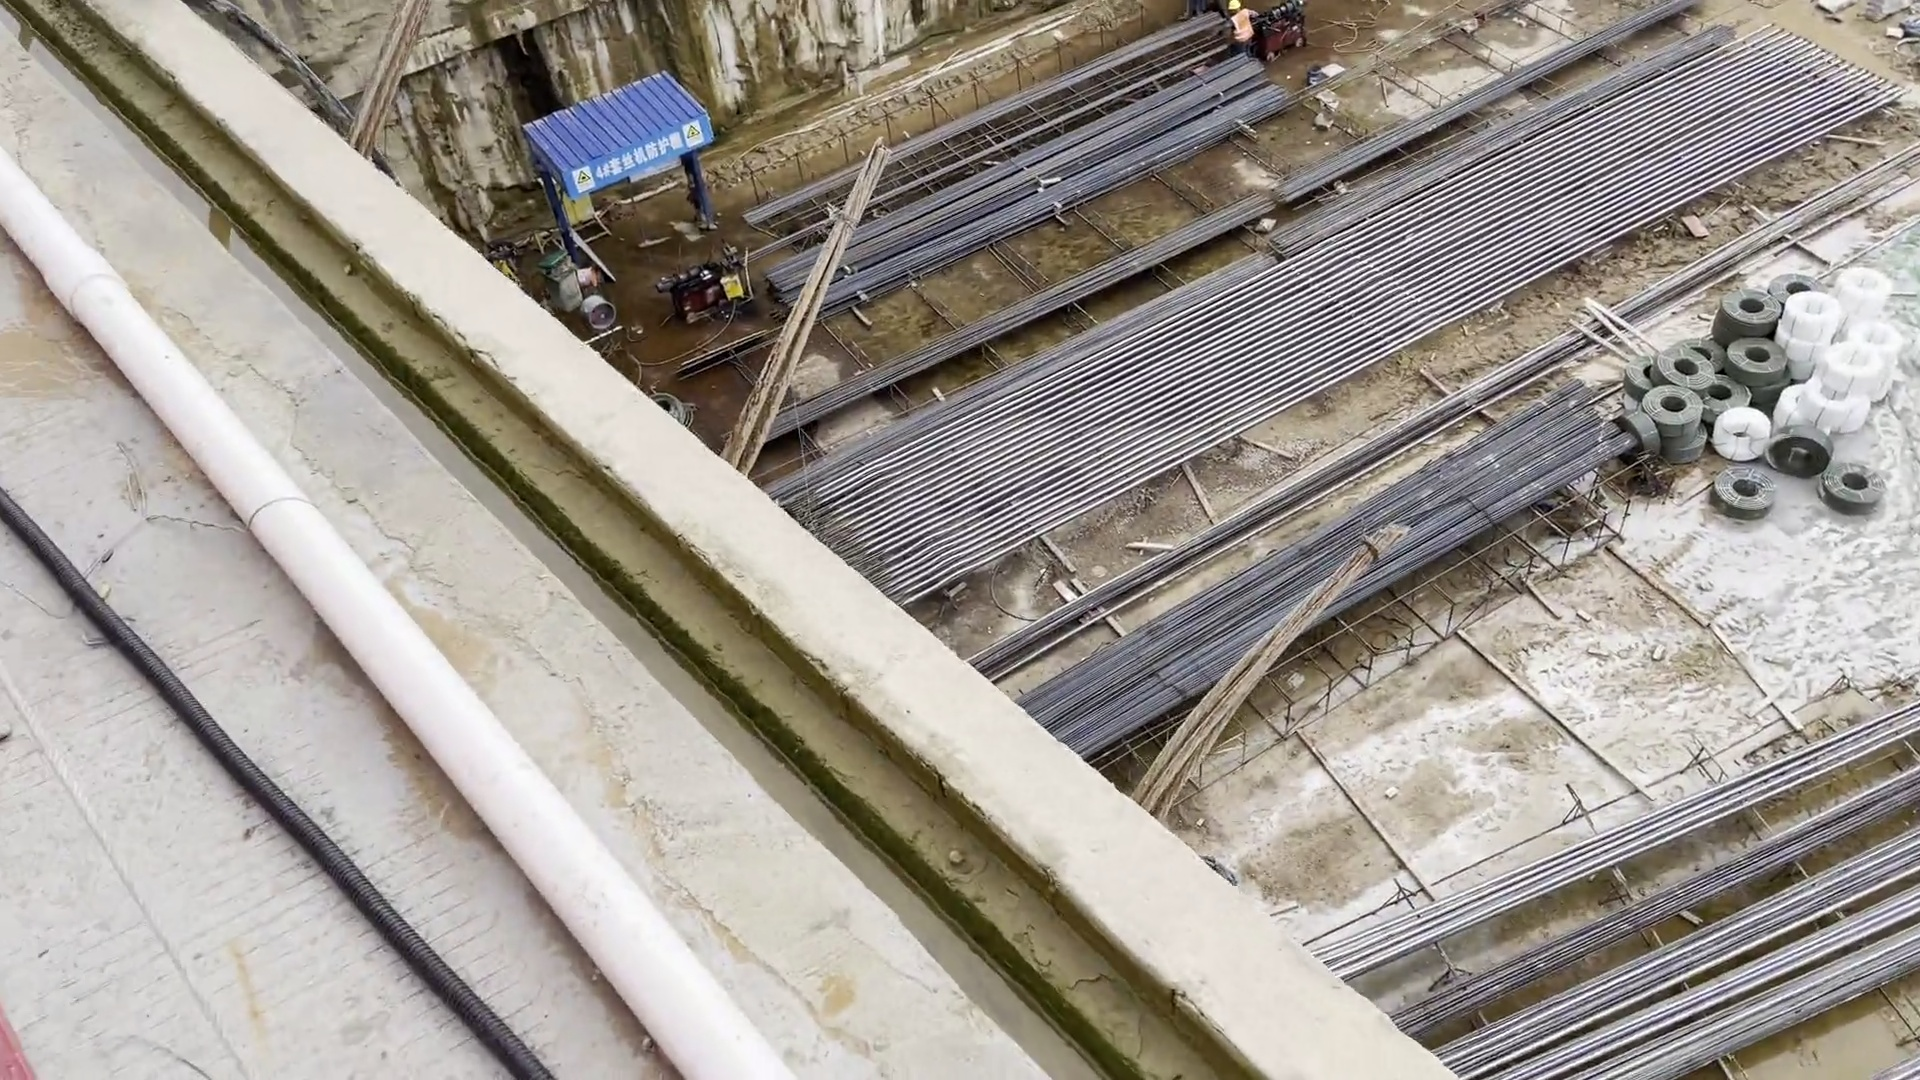helmet: (1227, 1, 1242, 10)
person: (1226, 2, 1264, 53)
rebar: (1317, 692, 1917, 1080), (1033, 375, 1637, 753), (744, 18, 1298, 316)
slogan: (572, 114, 707, 201)
vest: (1229, 11, 1252, 41)
